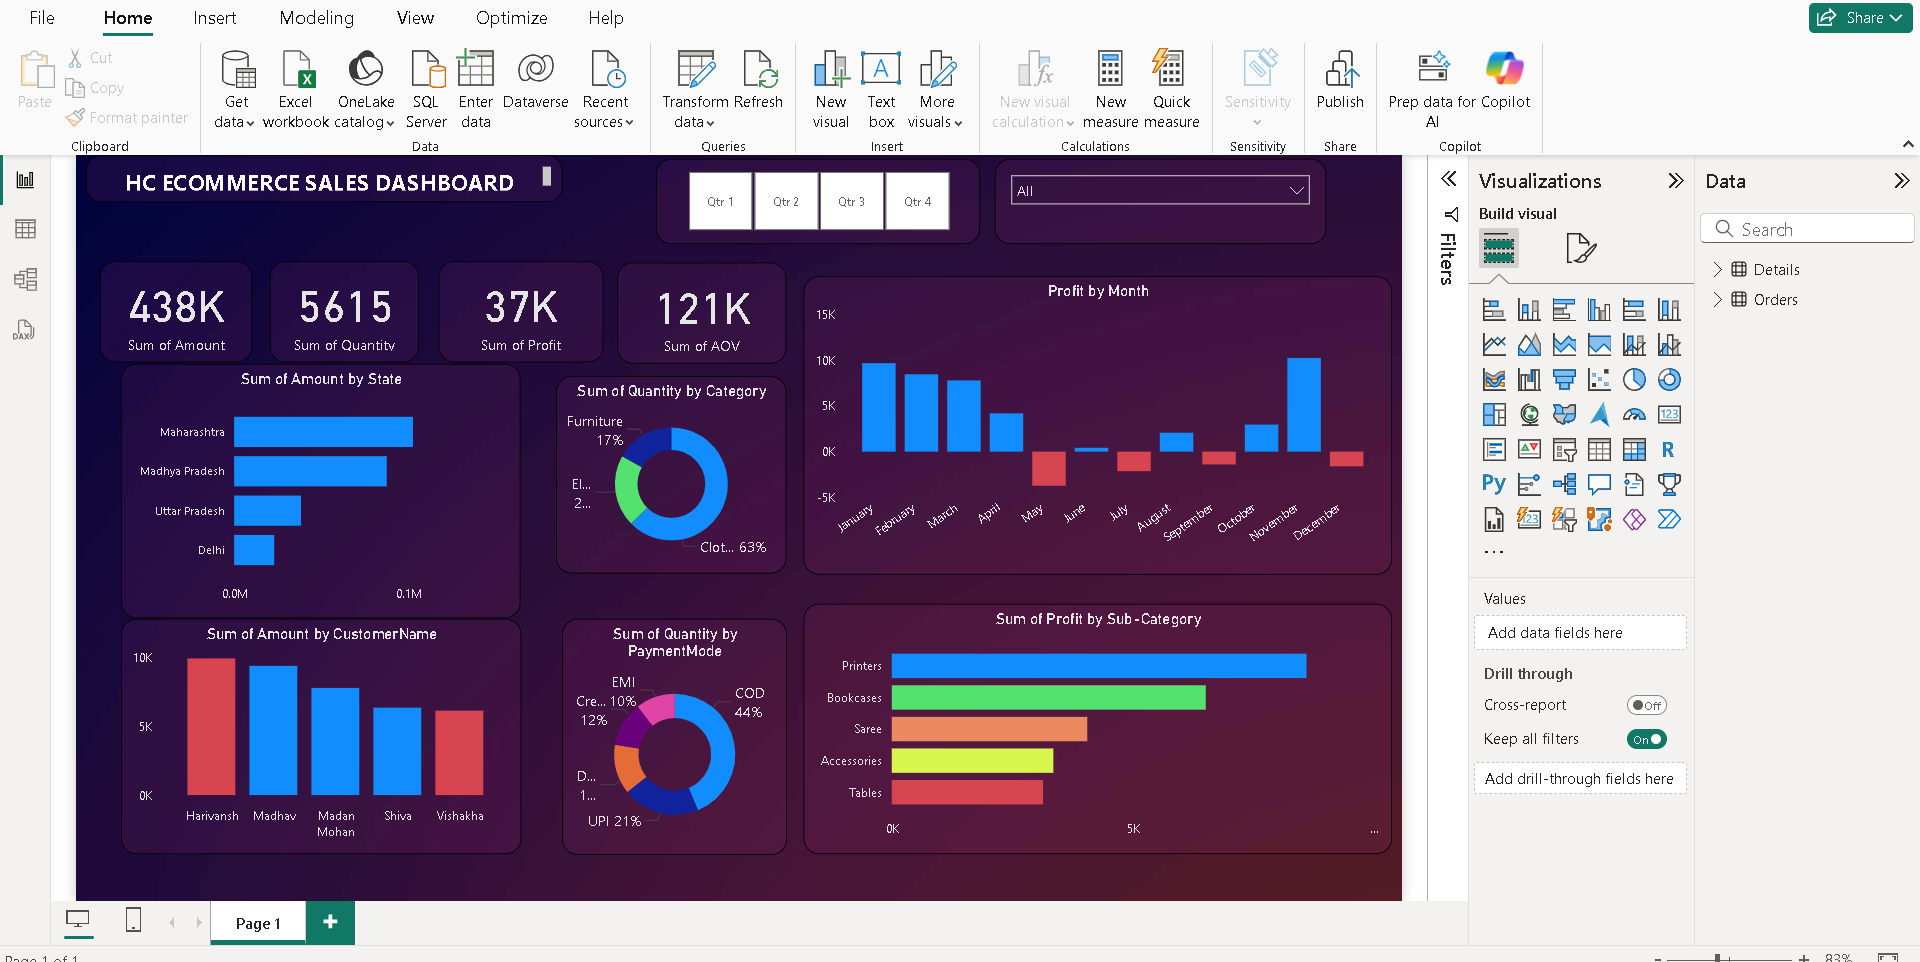

The dashboard page shown, as its layout file describes it:
{"tool":"powerbi","page":{"name":"Page 1","canvas":[1280,720],"ordinal":0},"visuals":[{"type":"textbox","box":[9.6,0,459.7,45.3],"z":0},{"type":"columnChart","title":" Profit by Month","fields":{"Y":["Details.Profit"],"Category":["Orders.Order Date.Variation.Date Hierarchy.Month"]},"box":[702.6,116.6,568.1,288.2],"z":1000},{"type":"barChart","fields":{"Category":["Details.Sub-Category"],"Y":["Details.Profit"]},"box":[702.6,433.6,568.1,241.5],"z":2000},{"type":"donutChart","fields":{"Category":["Details.Category"],"Y":["Details.Quantity"]},"box":[463.8,214.1,222.3,190.7],"z":3000},{"type":"donutChart","fields":{"Y":["Details.Quantity"],"Category":["Details.PaymentMode"]},"box":[469.3,447.3,216.8,227.8],"z":4000},{"type":"card","fields":{"Values":["Details.Amount"]},"box":[23.3,102.9,146.8,97.4],"z":5000},{"type":"card","fields":{"Values":["Details.Quantity"]},"box":[186.6,102.9,144.1,97.4],"z":6000},{"type":"card","fields":{"Values":["Details.Profit"]},"box":[349.9,102.9,159.2,97.4],"z":7000},{"type":"card","fields":{"Values":["Details.AOV"]},"box":[522.8,104.3,163.3,97.4],"z":8000},{"type":"barChart","fields":{"Category":["Orders.State"],"Y":["Details.Amount"]},"box":[43.9,201.7,385.6,245.6],"z":9000},{"type":"columnChart","fields":{"Category":["Orders.CustomerName"],"Y":["Details.Amount"]},"box":[44,448,386,227],"z":10000},{"type":"slicer","fields":{"Values":["Orders.Order Date.Variation.Date Hierarchy.Quarter"]},"box":[559.9,4.1,312.9,82.3],"z":11000},{"type":"slicer","fields":{"Values":["Orders.State"]},"box":[886.5,4.1,319.7,82.3],"z":11001}]}

Visuals, with their boxes on the page's 1280x720 design canvas (x1, y1, x2, y2). These are canvas units, not pixel positions in the 1920x962 screenshot, which may show the page scaled, cropped or inside an application window:
textbox: x1=10 y1=0 x2=469 y2=45
" Profit by Month" columnChart: x1=703 y1=117 x2=1271 y2=405
barChart - Details.Sub-Category x Details.Profit: x1=703 y1=434 x2=1271 y2=675
donutChart - Details.Category x Details.Quantity: x1=464 y1=214 x2=686 y2=405
donutChart - Details.Quantity x Details.PaymentMode: x1=469 y1=447 x2=686 y2=675
card - Details.Amount: x1=23 y1=103 x2=170 y2=200
card - Details.Quantity: x1=187 y1=103 x2=331 y2=200
card - Details.Profit: x1=350 y1=103 x2=509 y2=200
card - Details.AOV: x1=523 y1=104 x2=686 y2=202
barChart - Orders.State x Details.Amount: x1=44 y1=202 x2=430 y2=447
columnChart - Orders.CustomerName x Details.Amount: x1=44 y1=448 x2=430 y2=675
slicer - Orders.Order Date.Variation.Date Hierarchy.Quarter: x1=560 y1=4 x2=873 y2=86
slicer - Orders.State: x1=886 y1=4 x2=1206 y2=86
